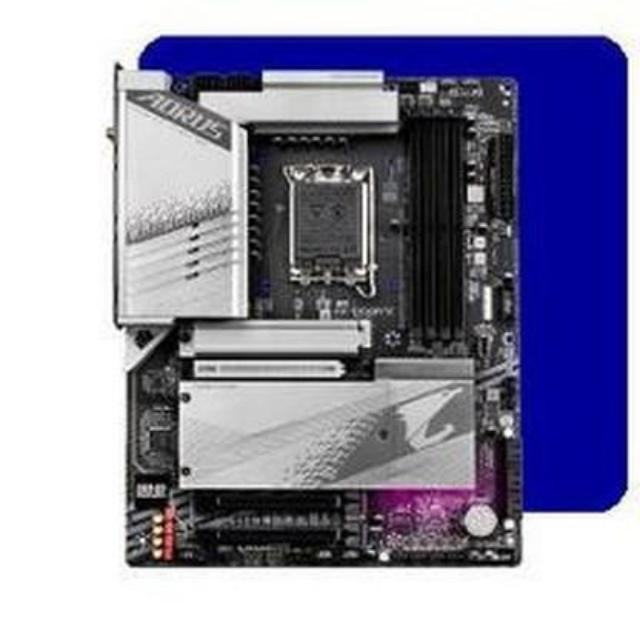Mainboard: (104, 54, 528, 582)
